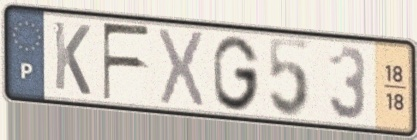3: (325, 44, 367, 124)
5: (267, 33, 315, 120)
F: (100, 21, 153, 103)
G: (210, 33, 262, 113)
K: (51, 18, 93, 98)
X: (156, 25, 207, 112)
